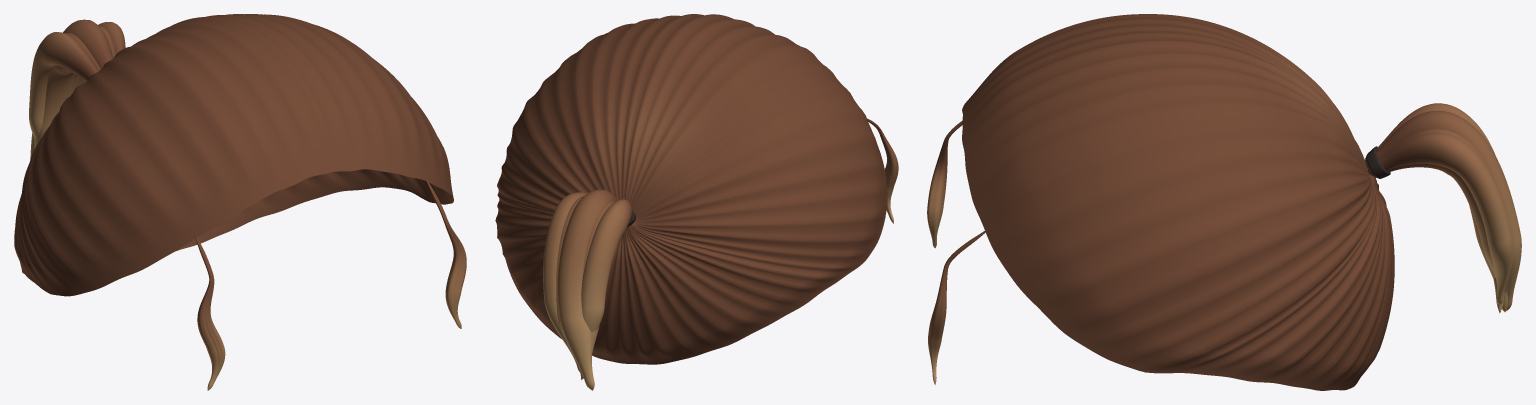
The model's file is ponytail-cap-ombre.glb.
3 views of the same model, side by side, from view 1: azimuth 30°, elevation 25°; view 2: azimuth 150°, elevation 25°; view 3: azimuth 270°, elevation 25° (orthographic). The views are drawn at different scales.
Visible parts, largest first — view 1: Hair / swept roots220, Hair / rounded tail220 0, Hair / adjustable front216 -1, Hair / rounded tail220 1, Hair / adjustable front216 1, Hair / rounded tail220 2, Hair / rounded tail220 4; view 2: Hair / swept roots220, Hair / rounded tail220 2, Hair / rounded tail220 0, Hair / rounded tail220 4, Hair / adjustable front216 -1, Hair / rounded tail220 3, Hair / rounded tail220 1; view 3: Hair / swept roots220, Hair / rounded tail220 4, Hair / rounded tail220 2, Hair / rounded tail220 3, Hair / adjustable front216 1, Hair / adjustable front216 -1, Hair / rounded tail220 0.
Boxes of the visible parts, x1,y1,x2,y2 form: Hair / swept roots220: (14, 14, 453, 296); Hair / rounded tail220 0: (29, 32, 98, 139); Hair / adjustable front216 -1: (195, 236, 225, 390); Hair / rounded tail220 1: (34, 33, 100, 147); Hair / adjustable front216 1: (426, 180, 466, 328); Hair / rounded tail220 2: (30, 19, 113, 158); Hair / rounded tail220 4: (98, 22, 125, 53); Hair / swept roots220: (495, 14, 887, 364); Hair / rounded tail220 2: (557, 189, 617, 390); Hair / rounded tail220 0: (580, 199, 632, 380); Hair / rounded tail220 4: (543, 192, 587, 372); Hair / adjustable front216 -1: (867, 118, 898, 223); Hair / rounded tail220 3: (556, 196, 583, 336); Hair / rounded tail220 1: (583, 200, 615, 387); Hair / swept roots220: (962, 14, 1394, 390); Hair / rounded tail220 4: (1367, 132, 1512, 304); Hair / rounded tail220 2: (1365, 110, 1521, 311); Hair / rounded tail220 3: (1367, 129, 1513, 293); Hair / adjustable front216 1: (928, 229, 986, 384); Hair / adjustable front216 -1: (927, 121, 962, 248); Hair / rounded tail220 0: (1365, 103, 1504, 313).
Size of the model in its own units: 0.779 by 0.579 by 0.9414.
Materials: 9 (8 with a texture image).
